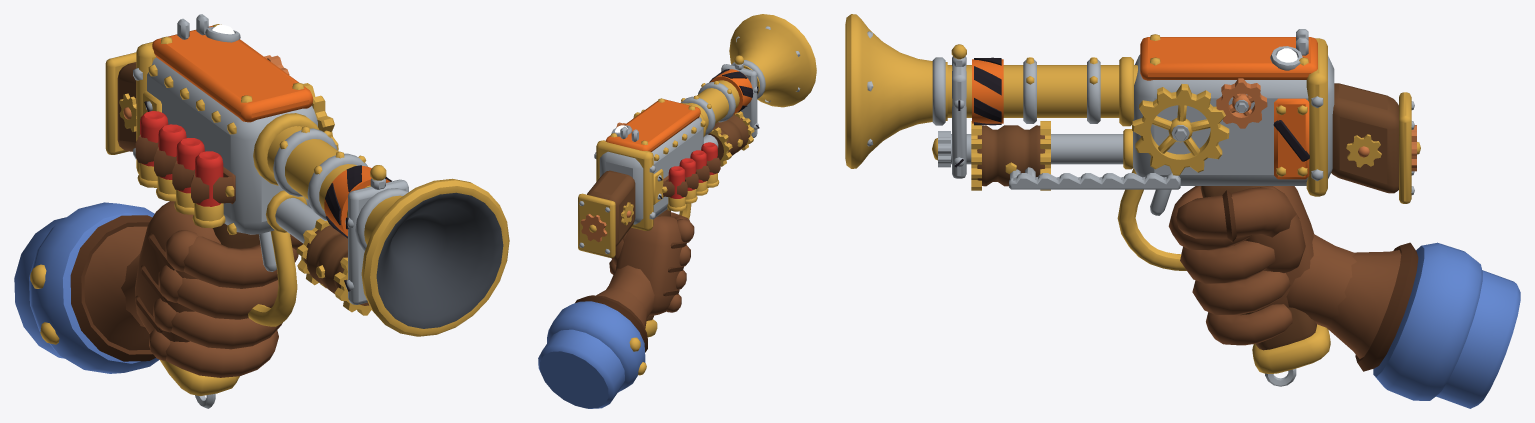
The model's file is vm_scattergun.glb.
3 views of the same model, side by side, from view 1: azimuth 30°, elevation 25°; view 2: azimuth 150°, elevation 25°; view 3: azimuth 270°, elevation 25° (orthographic). The views are drawn at different scales.
Parts seen in each view (by area): view 1: Scattergun, Glove, Pump; view 2: Scattergun, Glove, Pump; view 3: Scattergun, Glove, Pump.
Part boxes in pixels (x1,y1,x2,y2): Scattergun: [105, 14, 509, 408]; Glove: [14, 201, 302, 377]; Pump: [296, 218, 371, 315]; Scattergun: [578, 14, 816, 337]; Glove: [538, 212, 694, 408]; Pump: [708, 111, 754, 166]; Scattergun: [845, 14, 1420, 386]; Glove: [1168, 186, 1520, 408]; Pump: [971, 121, 1180, 190].
Size of the model in its own units: 0.1689 by 0.4019 by 0.6374.
